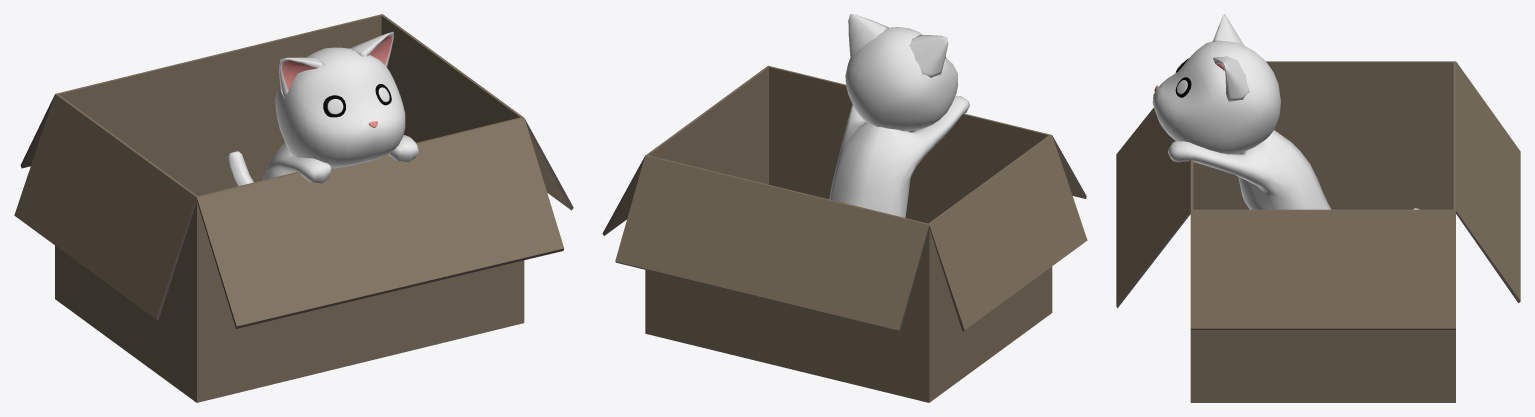
File: item_Kitty.fbx
3 renders of one model, left to right at view 1: azimuth 30°, elevation 25°; view 2: azimuth 150°, elevation 25°; view 3: azimuth 270°, elevation 25°, orthographic. The views are drawn at different scales.
Parts seen in each view (by area): view 1: Item_Kitty; view 2: Item_Kitty; view 3: Item_Kitty.
Part boxes in pixels (x1,y1,x2,y2): Item_Kitty: (14, 14, 573, 402); Item_Kitty: (602, 14, 1087, 402); Item_Kitty: (1116, 14, 1520, 402).
Size of the model in its own units: 49.2 by 34.4 by 44.1.
